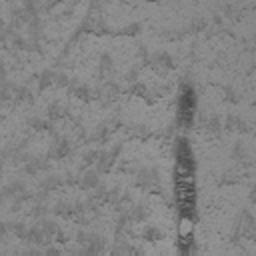Oxide scale of plate system: (170, 136, 206, 256), (174, 82, 200, 132)
